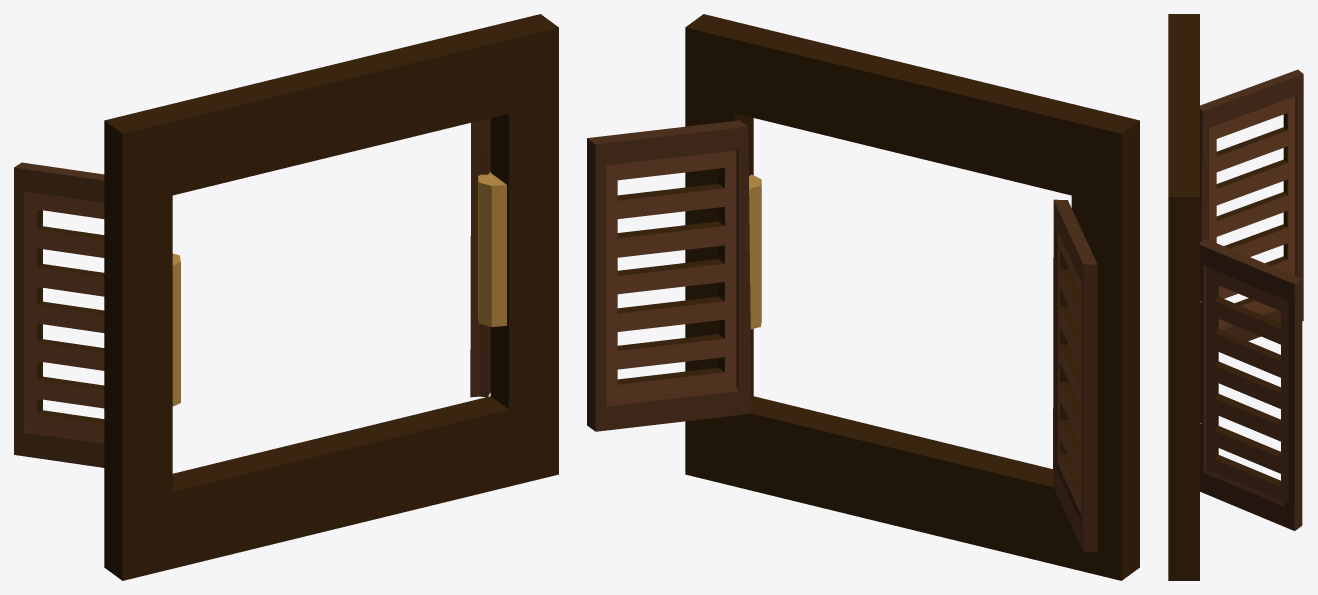
Rendered from Wooden_Window_Open.fbx.
The picture shows the model from 3 angles, left to right: view 1: azimuth 30°, elevation 25°; view 2: azimuth 150°, elevation 25°; view 3: azimuth 270°, elevation 25°; orthographic projection. The views are drawn at different scales.
Parts seen in each view (by area): view 1: Out_Door; view 2: Out_Door; view 3: Out_Door.
Part boxes in pixels (box(x1,y1,x2,y2)): Out_Door: box(14, 14, 558, 580); Out_Door: box(587, 14, 1139, 580); Out_Door: box(1168, 14, 1303, 580).
Bounding box in the file's own units: 243 × 202 × 64.52.
